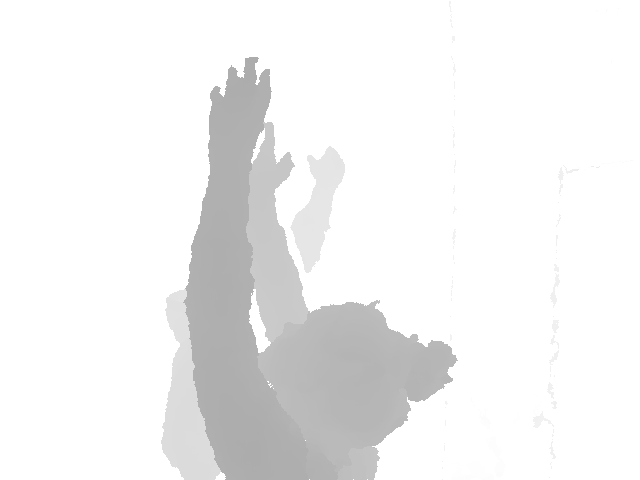hand: (207, 56, 271, 160), (233, 120, 294, 202), (306, 146, 345, 196)
head: (257, 299, 461, 444)
person: (184, 56, 461, 480), (160, 146, 346, 480)
